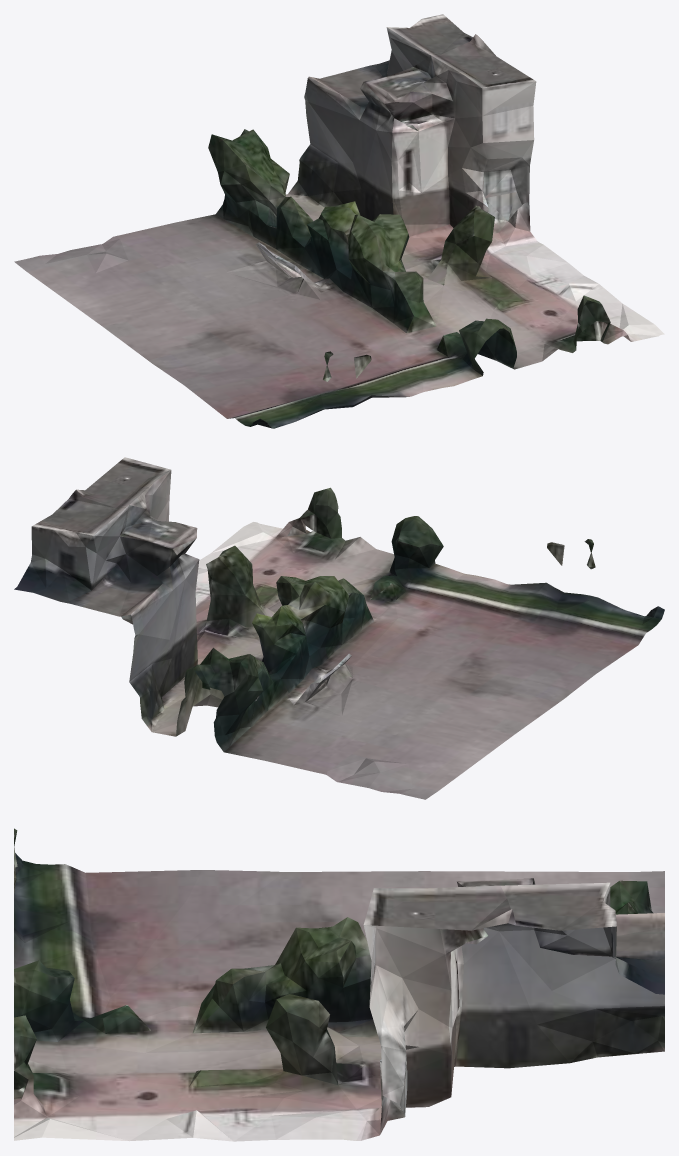
The model's file is helsinki-7-5.glb.
3 renders of one model, top to bottom at view 1: azimuth 30°, elevation 25°; view 2: azimuth 150°, elevation 25°; view 3: azimuth 270°, elevation 25°, orthographic. The views are drawn at different scales.
Size of the model in its own units: 31.5 by 12.73 by 31.75.
Materials: 1 (1 with a texture image).
